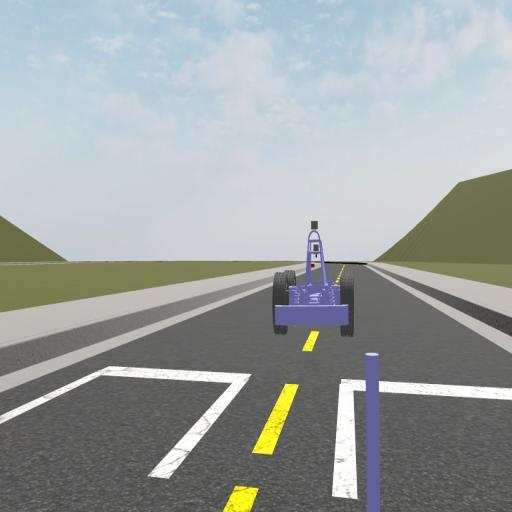ERP-42: (272, 220, 354, 335)
